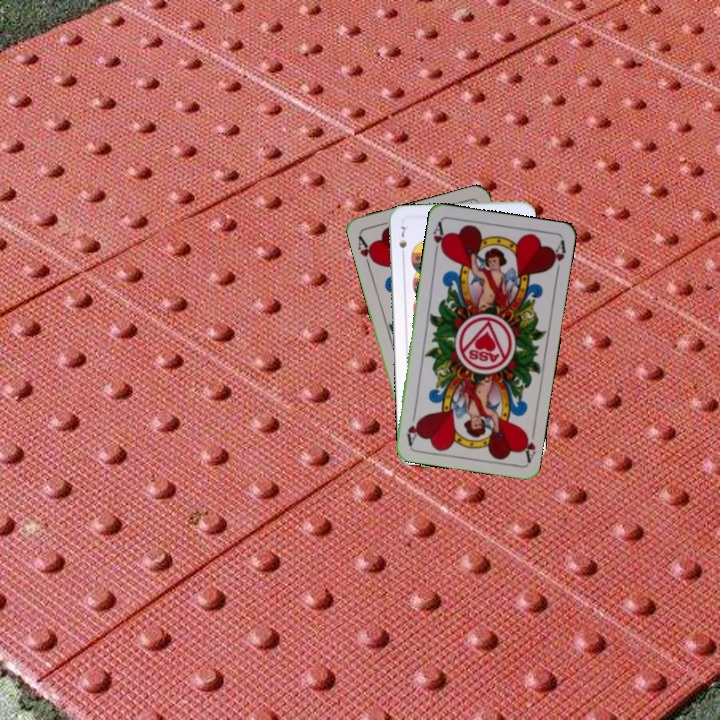HA: (354, 231, 378, 271), (429, 218, 449, 259), (518, 423, 538, 464)
S7: (395, 222, 409, 260)
